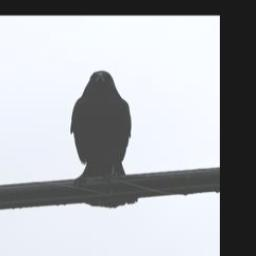Crow: (68, 70, 137, 208)
